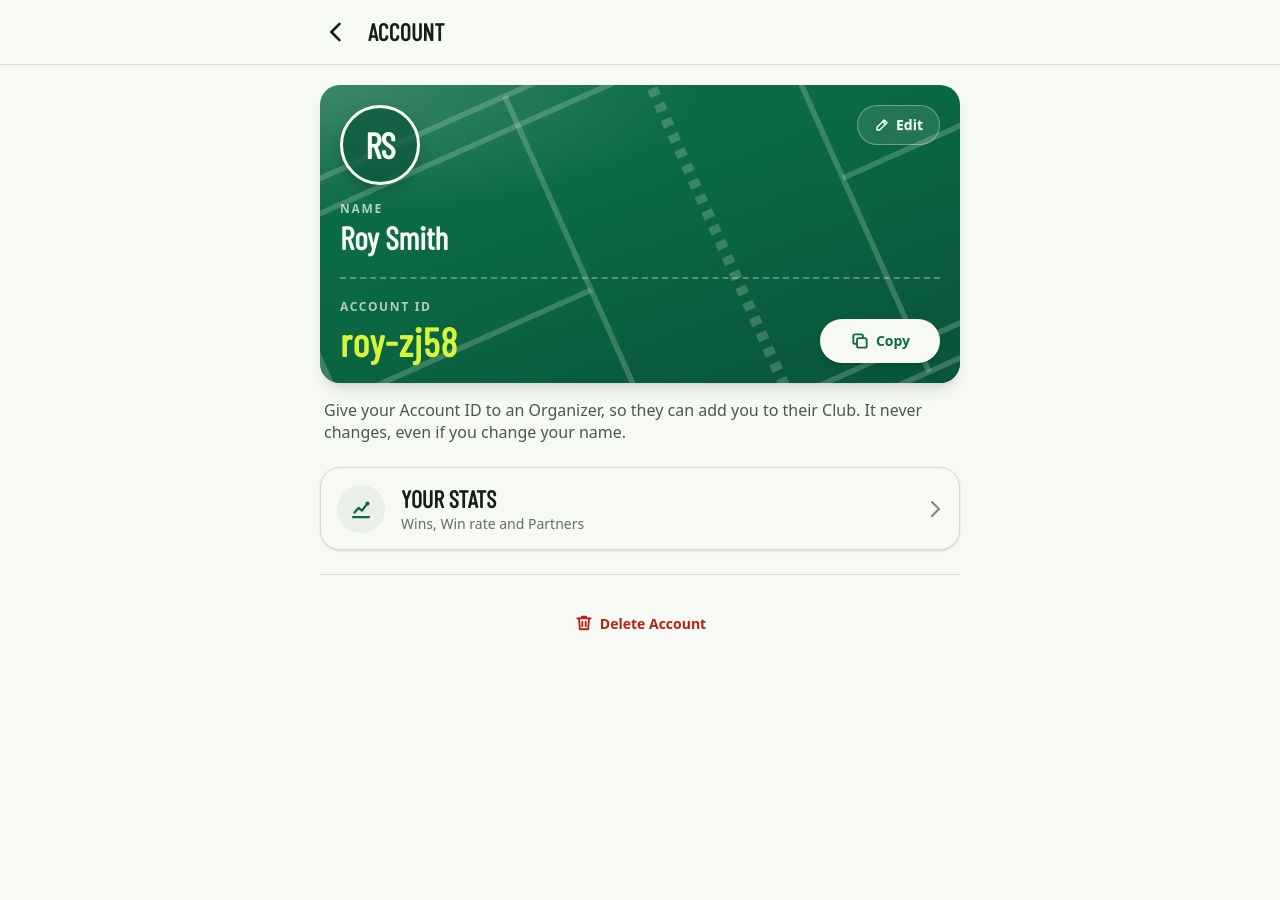
Test: Delete Account › shows it's busy while the server answers, and on failure goes back to normal with the error
Click the button "Delete Account": point(640, 623) 320,599 -> 960,647
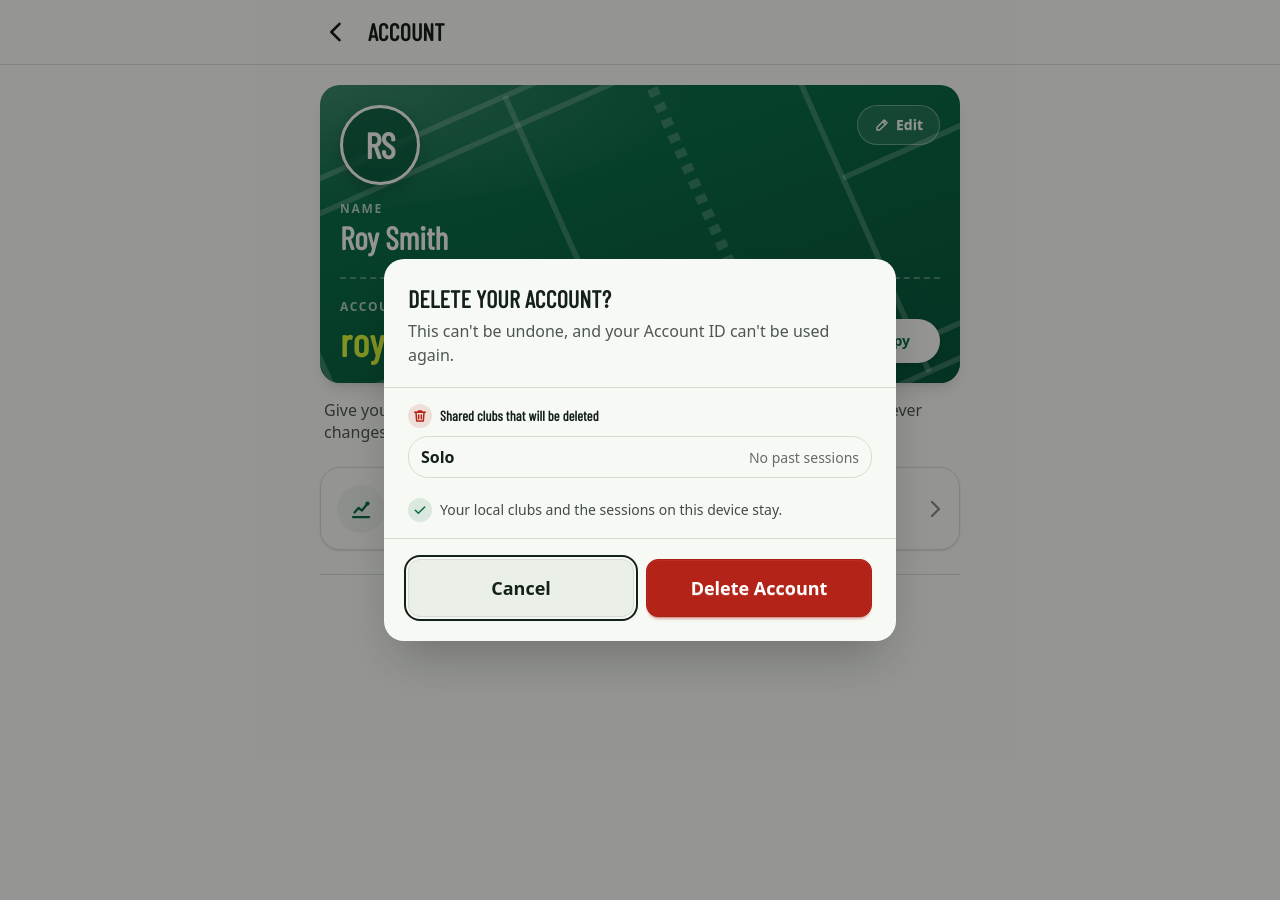
Click the button "Delete Account" below "Solo": point(759, 588) 646,559 -> 872,617
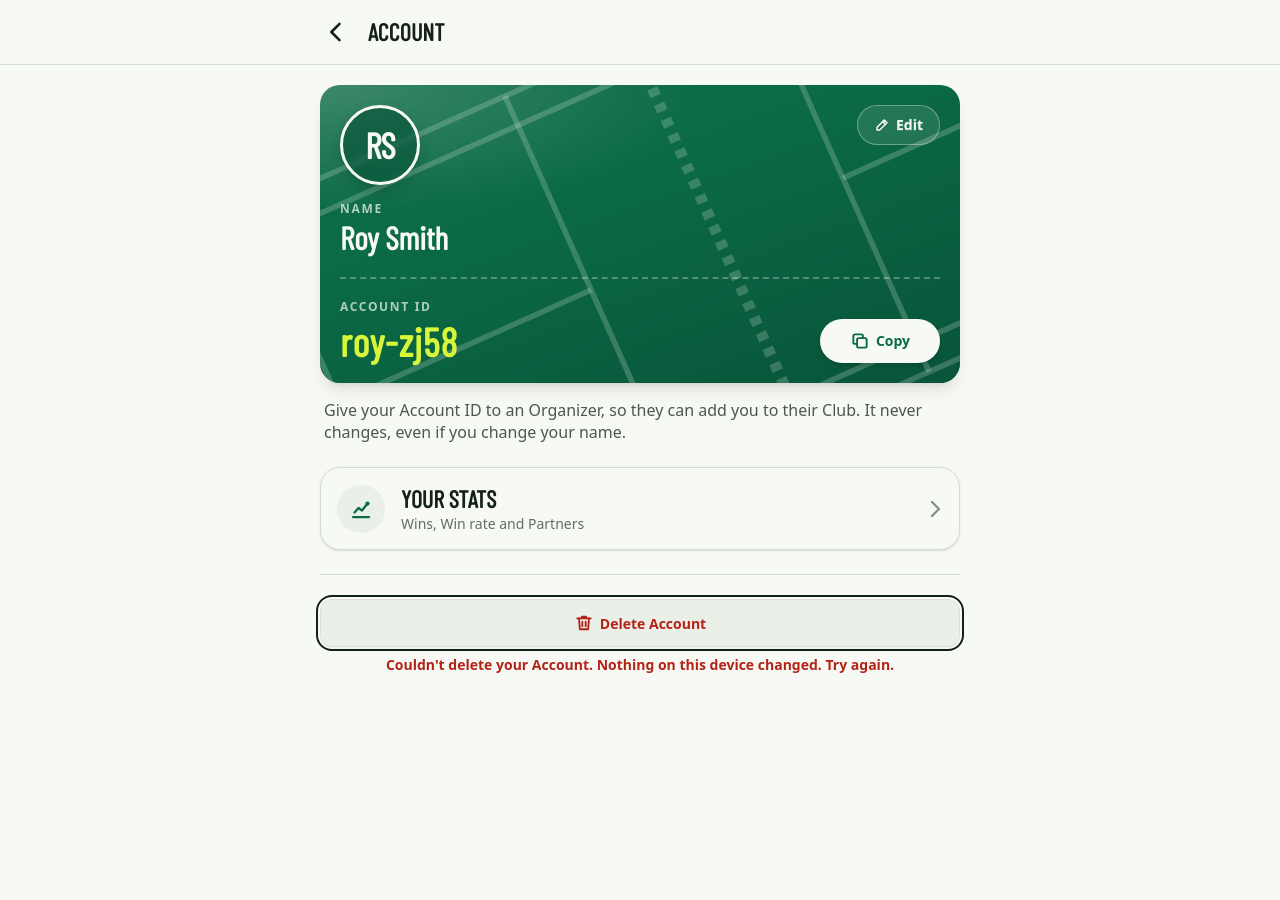
Check: the button "Delete Account" is enabled, box 320,599 -> 960,647
Check: the message reads "Couldn't delete your Account. Nothing on this device changed. Try again.", box 386,655 -> 894,674
